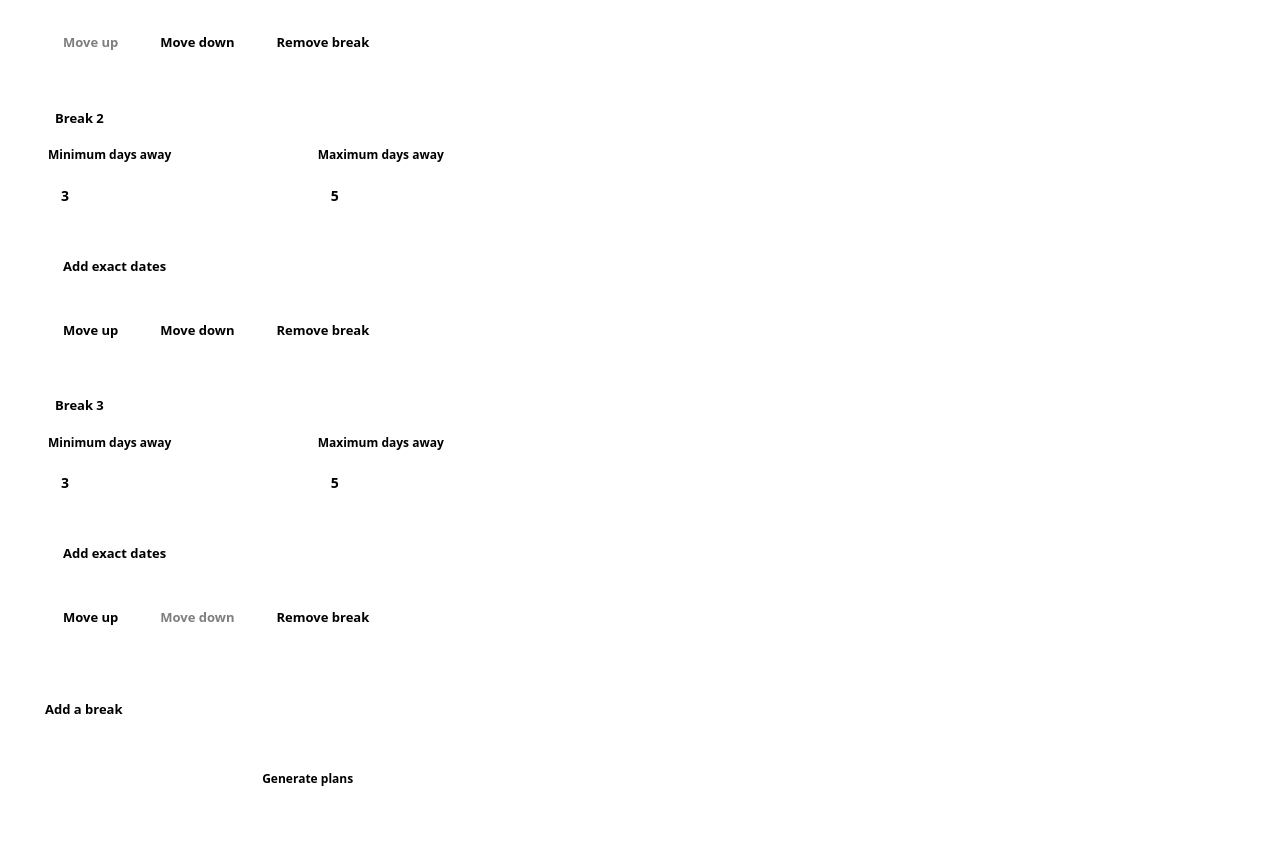
it: the too_broad outcome gives precise recovery without declaring a valid plan
(page scrolled)
Step 1. Click the button "Generate plans" → point(308, 779), box [30,756,585,802]
(page scrolled)
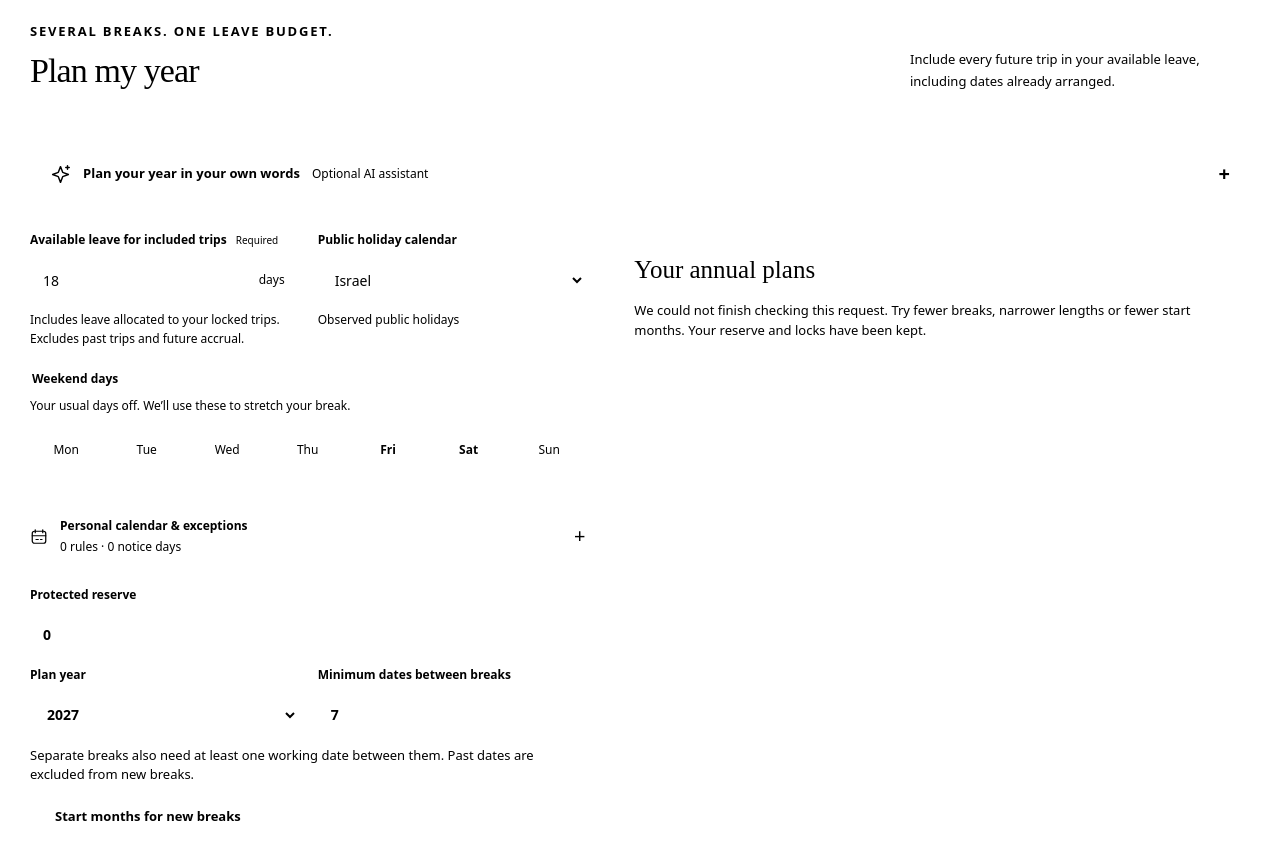
Expected: the text "We could not finish checking this request" is shown, [634,301,1190,339]
